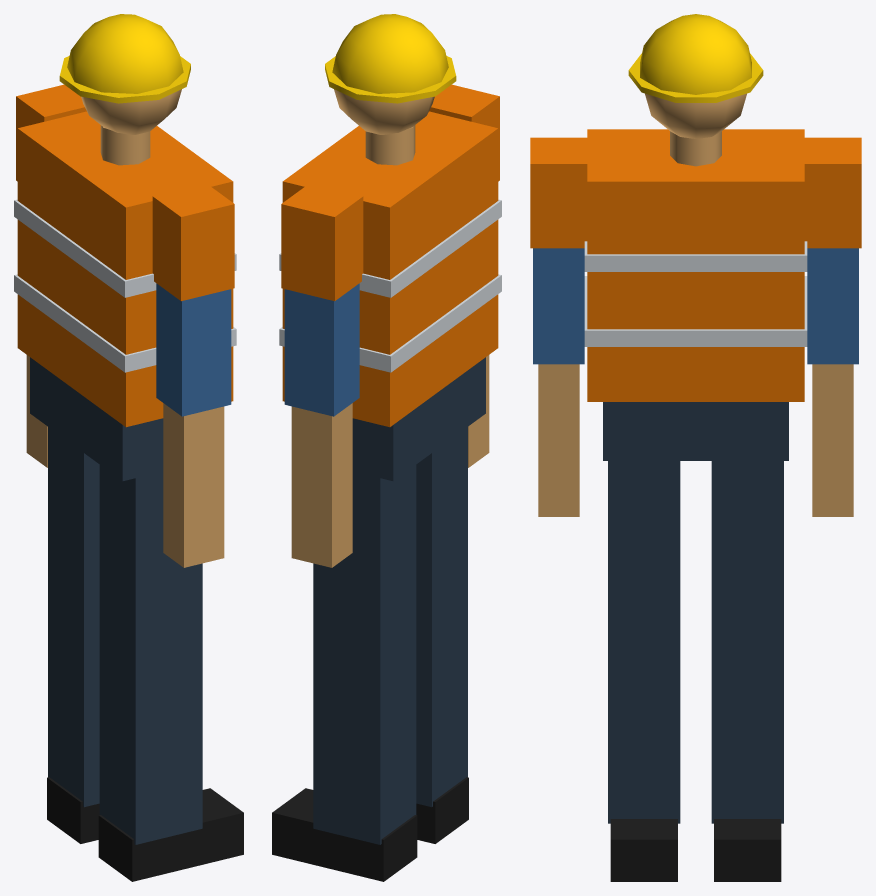
The model's file is operador_simples.glb.
3 views of the same model, side by side, from view 1: azimuth 30°, elevation 25°; view 2: azimuth 150°, elevation 25°; view 3: azimuth 270°, elevation 25° (orthographic).
Visible parts, largest first — view 1: tronco, perna_d, braco_d, perna_e, cabeca, braco_e; view 2: tronco, perna_e, braco_e, perna_d, cabeca, braco_d; view 3: tronco, perna_e, perna_d, braco_e, braco_d, cabeca.
Boxes of the visible parts, box(x1,y1,x2,y2) form: tronco: box(14, 111, 236, 481); perna_d: box(98, 465, 243, 881); braco_d: box(152, 183, 234, 567); perna_e: box(47, 427, 99, 843); cabeca: box(59, 14, 190, 134); braco_e: box(16, 84, 86, 467); tronco: box(279, 111, 501, 481); perna_e: box(272, 465, 417, 881); braco_e: box(281, 183, 363, 567); perna_d: box(416, 427, 468, 843); cabeca: box(325, 14, 456, 134); braco_d: box(429, 84, 499, 467); tronco: box(584, 129, 807, 460); perna_e: box(711, 461, 783, 881); perna_d: box(608, 461, 680, 881); braco_e: box(804, 137, 861, 516); braco_d: box(530, 137, 587, 516); cabeca: box(628, 14, 763, 138).
Size of the model in its own units: 0.295 by 1.76 by 0.64.
